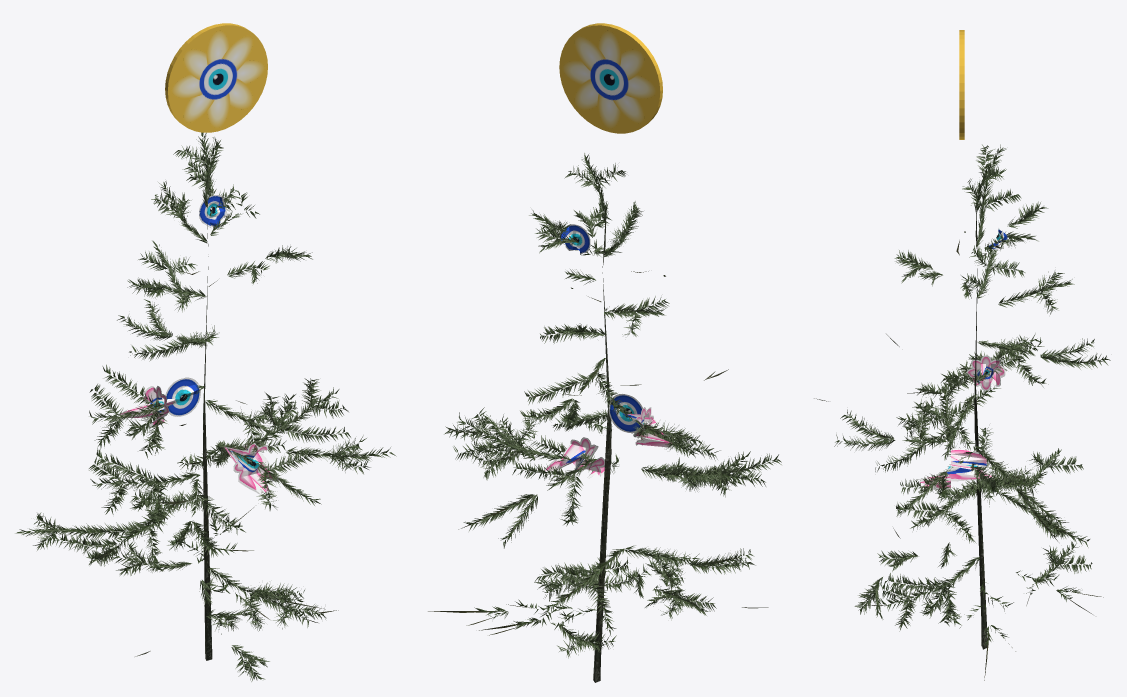
File: nyb_miracle_tree.glb
3 renders of one model, left to right at view 1: azimuth 30°, elevation 25°; view 2: azimuth 150°, elevation 25°; view 3: azimuth 270°, elevation 25°, orthographic. The views are drawn at different scales.
Visible parts, largest first — view 1: fir_sapling_a, add_eyeflower_gold.png, Cylinder, stk_eyeflower_die.png, stk_nazar_die.png, stk_eyeflower_die.png.001, stk_nazar_die.png.001; view 2: fir_sapling_a, add_eyeflower_gold.png, Cylinder, stk_eyeflower_die.png, stk_nazar_die.png, stk_eyeflower_die.png.001, stk_nazar_die.png.001; view 3: fir_sapling_a, stk_eyeflower_die.png, stk_eyeflower_die.png.001, Cylinder.
Boxes of the visible parts, <box> form: fir_sapling_a: <box>15,132,396,681</box>; add_eyeflower_gold.png: <box>171,30,265,128</box>; Cylinder: <box>165,23,267,132</box>; stk_eyeflower_die.png: <box>224,443,278,494</box>; stk_nazar_die.png: <box>165,377,200,416</box>; stk_eyeflower_die.png.001: <box>120,386,175,427</box>; stk_nazar_die.png.001: <box>199,195,227,228</box>; fir_sapling_a: <box>428,153,781,682</box>; add_eyeflower_gold.png: <box>562,30,656,129</box>; Cylinder: <box>559,23,662,133</box>; stk_eyeflower_die.png: <box>544,437,613,478</box>; stk_nazar_die.png: <box>608,394,644,433</box>; stk_eyeflower_die.png.001: <box>622,407,671,447</box>; stk_nazar_die.png.001: <box>560,224,590,254</box>; fir_sapling_a: <box>814,144,1110,680</box>; stk_eyeflower_die.png: <box>917,448,993,489</box>; stk_eyeflower_die.png.001: <box>966,355,1005,390</box>; Cylinder: <box>959,30,964,139</box>.
Size of the model in its own units: 0.7633 by 1.52 by 0.6773.
Materials: 8 (7 with a texture image).
